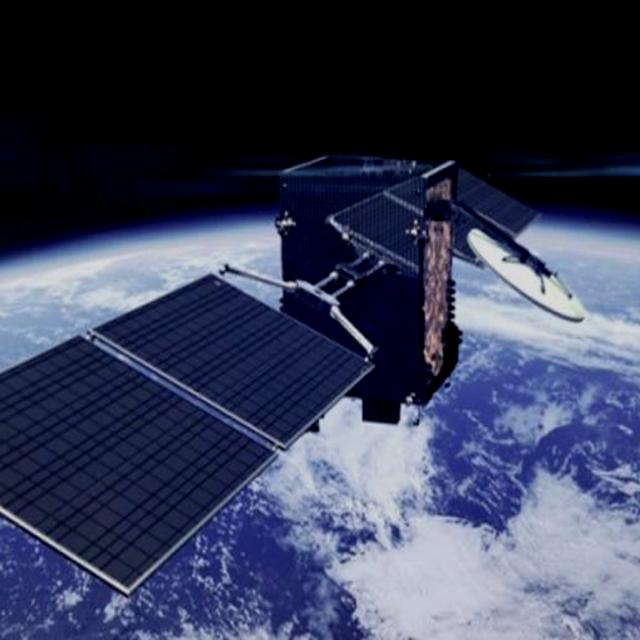satellite: (0, 142, 590, 604)
